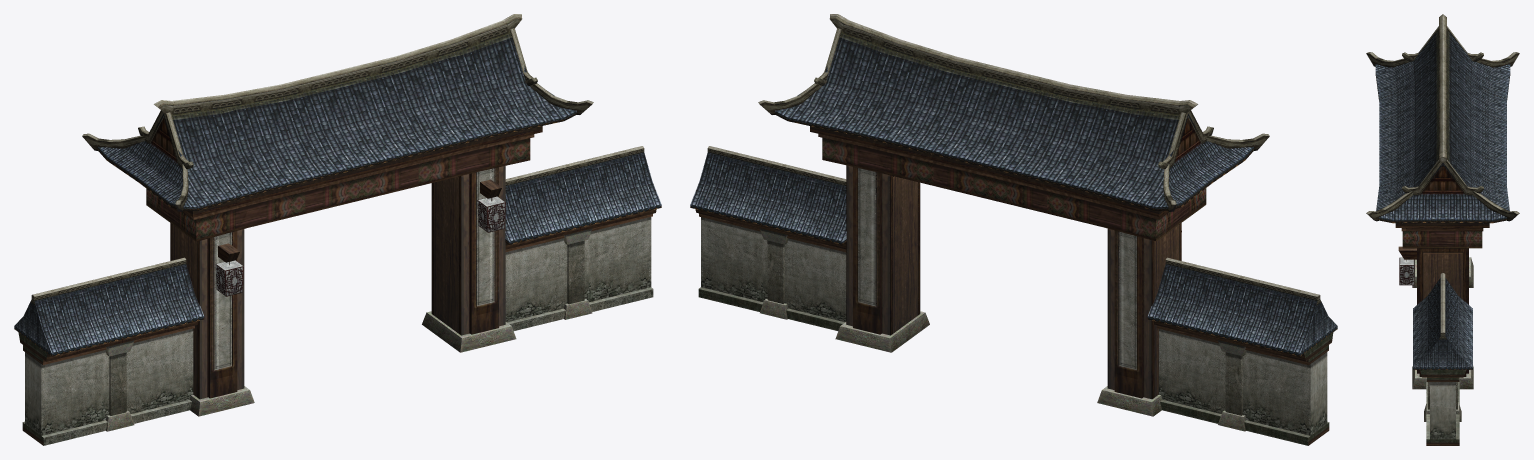
Rendered from a1-038-wall-door_duel.fbx.
The picture shows the model from 3 angles, left to right: view 1: azimuth 30°, elevation 25°; view 2: azimuth 150°, elevation 25°; view 3: azimuth 270°, elevation 25°; orthographic projection. The views are drawn at different scales.
Visible parts, largest first — view 1: a1-038-wall; view 2: a1-038-wall; view 3: a1-038-wall.
Boxes of the visible parts, x1,y1,x2,y2 form: a1-038-wall: [14, 14, 661, 445]; a1-038-wall: [690, 14, 1337, 445]; a1-038-wall: [1366, 14, 1519, 445].
Size of the model in its own units: 20 by 9.62 by 5.49.
